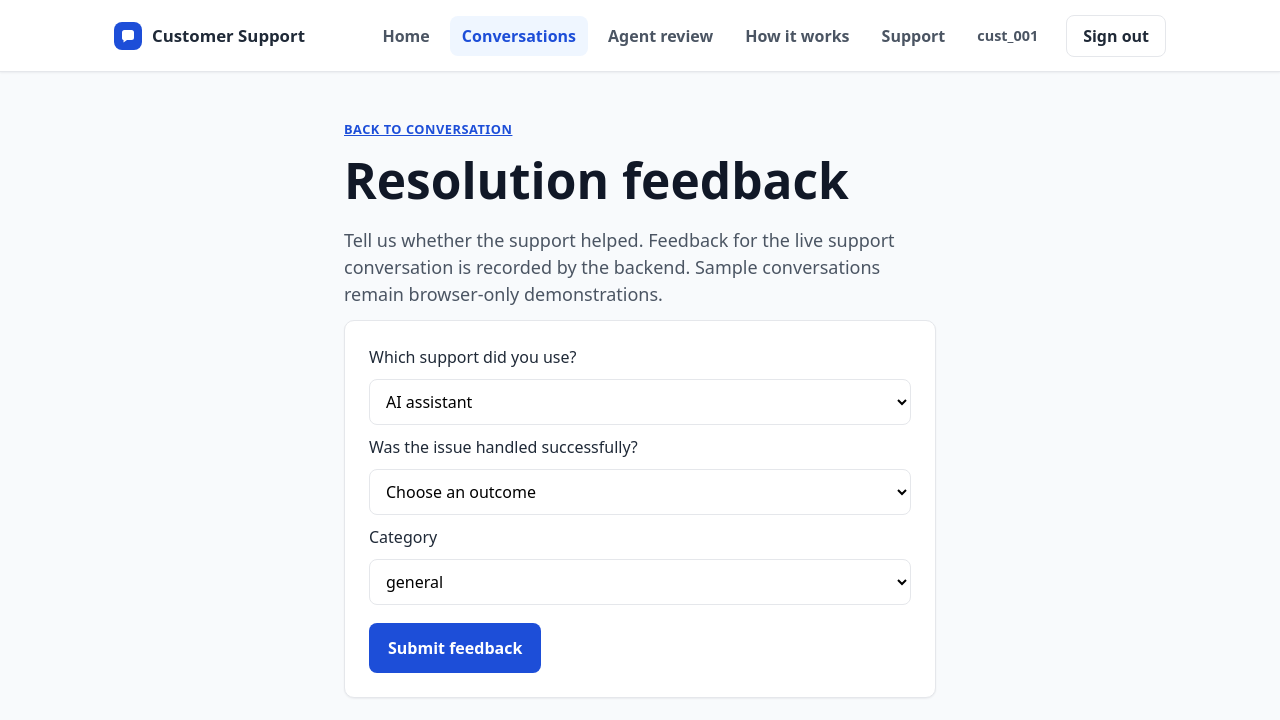
customer support workflows › still confirms live feedback when browser persistence fails
Step 1. Select "Yes" in the dropdown labelled "Was the issue handled successfully?" → (640, 492), box [369, 469, 911, 515]
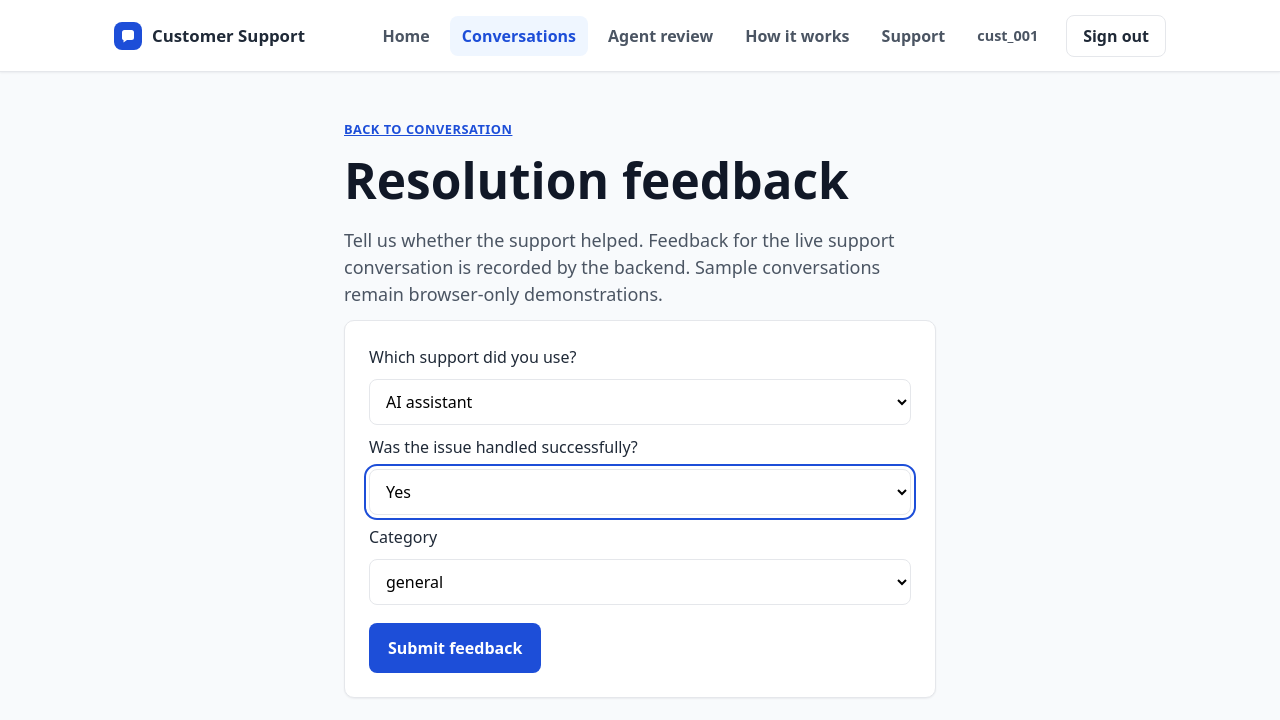
Step 2. Click the button "Submit feedback" → (455, 648), box [369, 623, 541, 673]
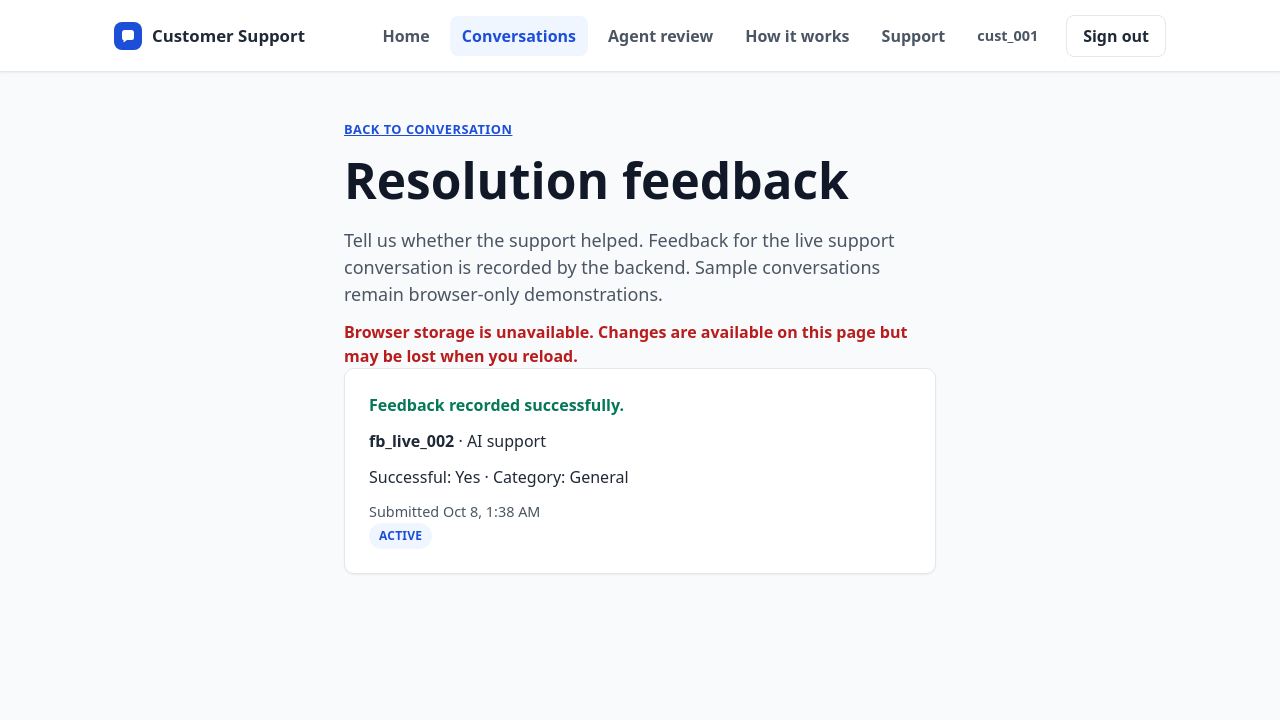
Check: the text "Feedback recorded successfully." is shown, box [369, 394, 624, 416]
Check: the text "fb_live_002" is shown, box [369, 430, 454, 452]
